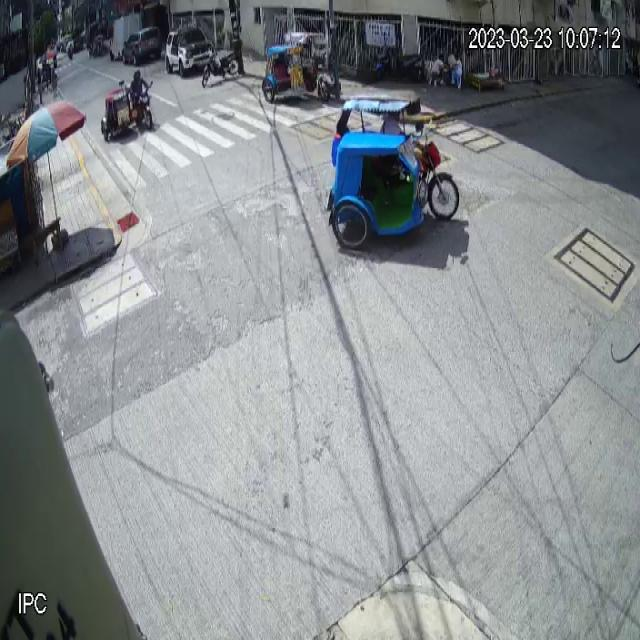Motorcycle: (202, 38, 244, 88)
Tricycle: (327, 93, 461, 251), (262, 30, 330, 103), (100, 85, 154, 142)
